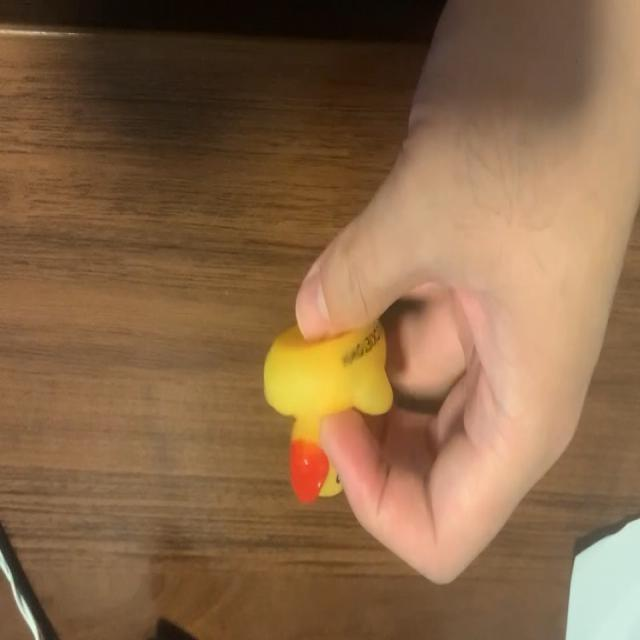rubber-duck: (263, 323, 391, 501)
